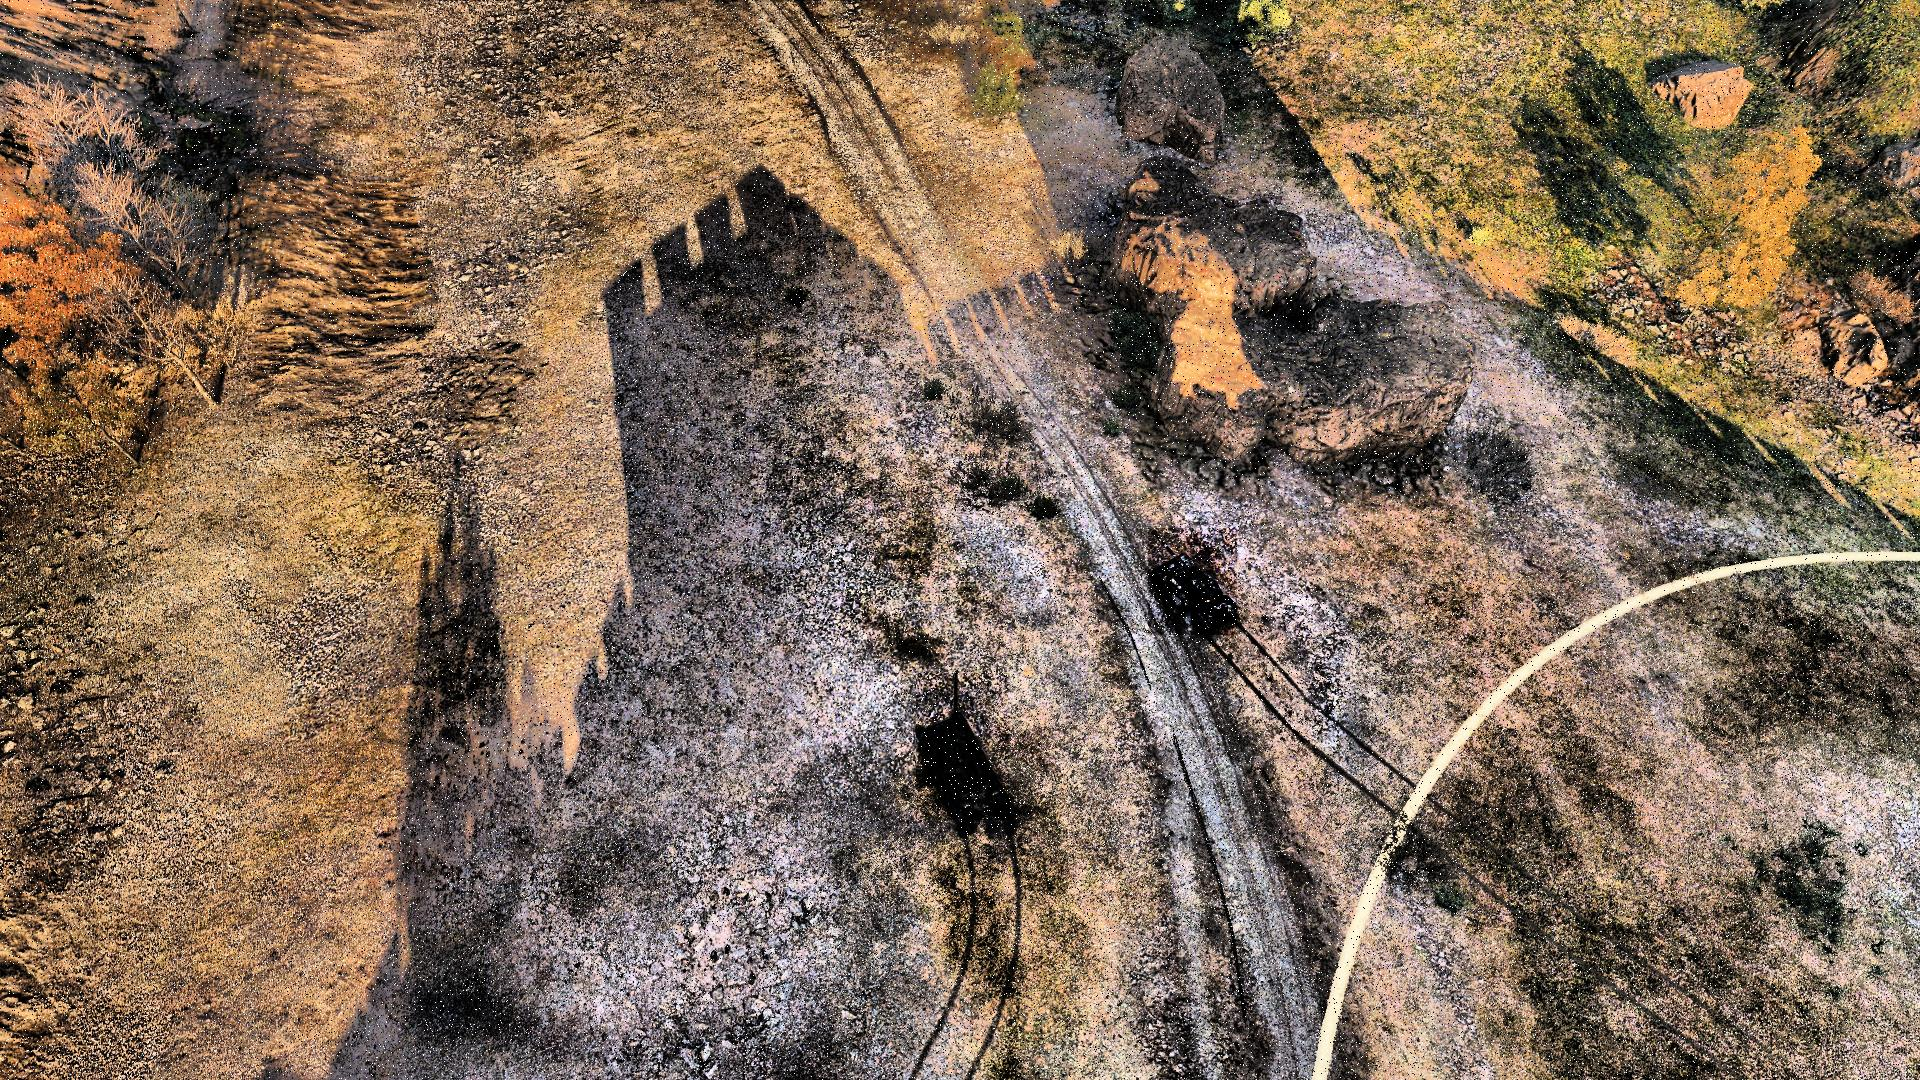military-vehicle: (916, 674, 1010, 820), (1149, 529, 1237, 636)
